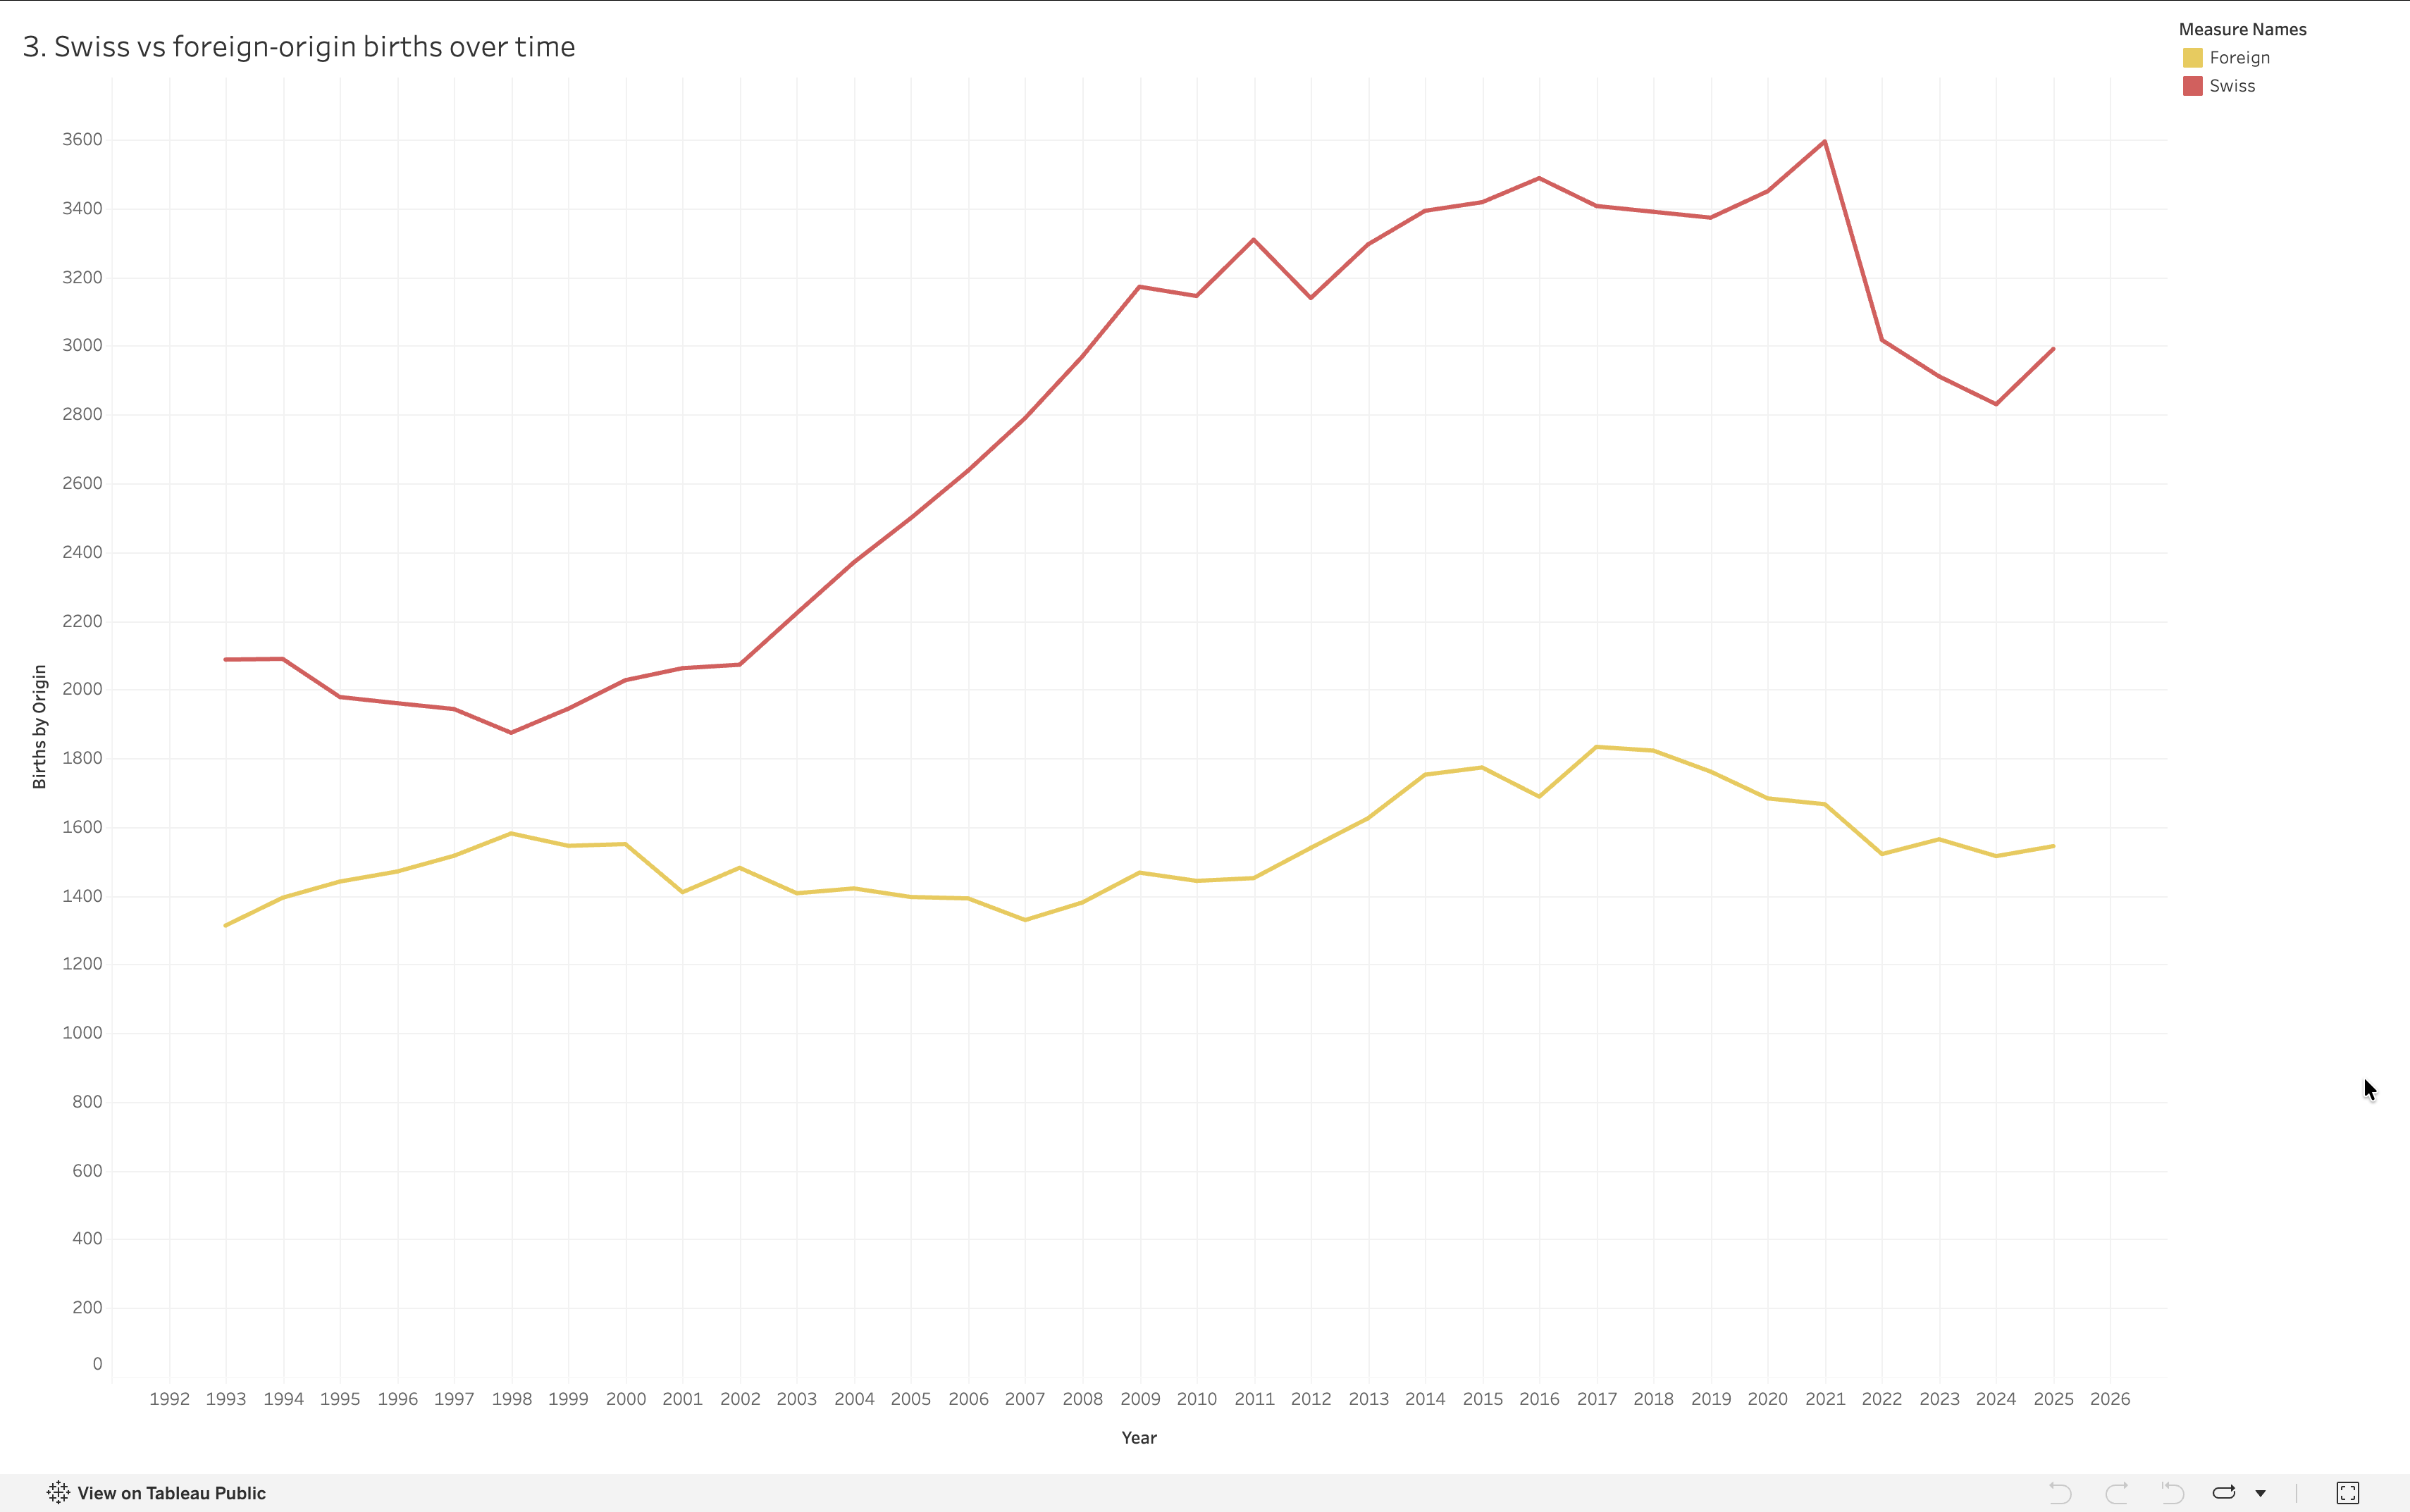

This screenshot's page, from the dashboard's own definition file:
{"tool":"tableau","page":{"name":"Stadt Zurich Births: Analysis 3","canvas":[1000,1000],"units":"permille","ordinal":3},"visuals":[{"type":"worksheet","title":"3. Swiss vs foreign-origin births over time","mark":"Automatic","cols":["year"],"box":[5.3,9,882.6,982]},{"type":"legend","title":"3. Swiss vs foreign-origin births over time","param":"[federated.0nsn7z10anpudf116jgkz09chbm3].[:Measure Names]","box":[887.9,9,106.7,74.3]}]}

Visuals, with their boxes on the dashboard's canvas, which has no fixed pixel size, in thousandths of its width and height (x1, y1, x2, y2). These are canvas units, not pixel positions in the 2410x1512 screenshot, which may show the page scaled, cropped or inside an application window:
"3. Swiss vs foreign-origin births over time" worksheet: {"left": 5, "top": 9, "right": 888, "bottom": 991}
"3. Swiss vs foreign-origin births over time" legend: {"left": 888, "top": 9, "right": 995, "bottom": 83}
